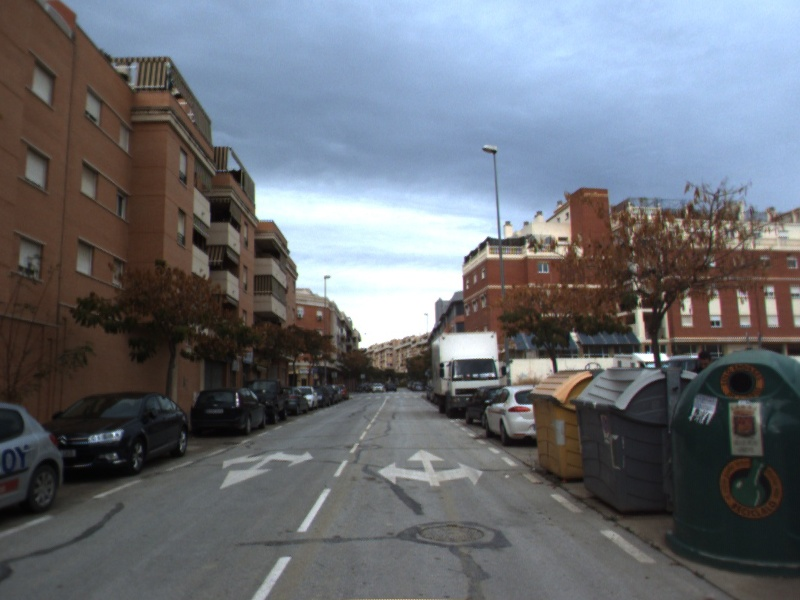STRAIGHT_LEFT_RIGHT: (375, 447, 486, 488)
